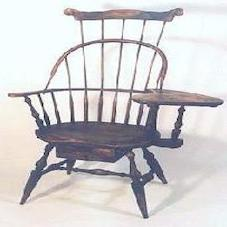chair: (0, 2, 221, 223)
